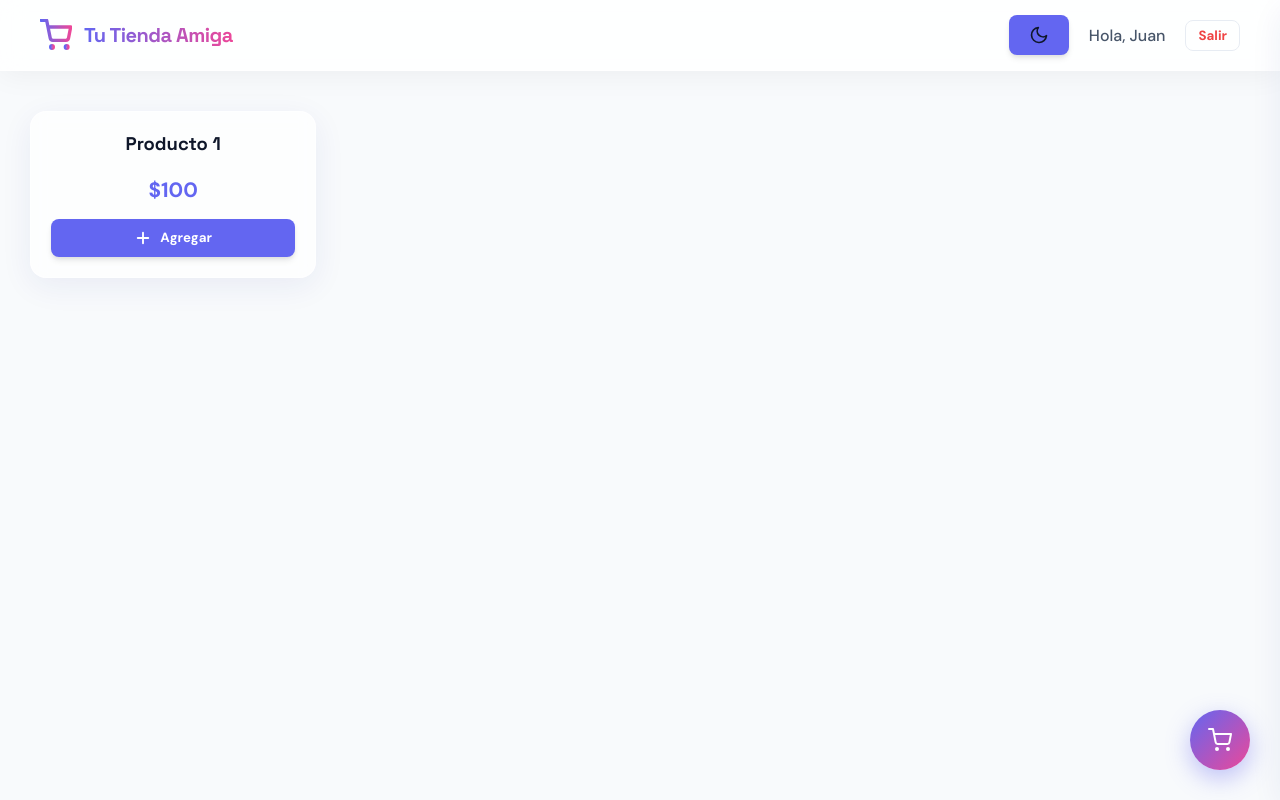
App Component - Gestión del Carrito › Gestión del Carrito › ✓ HAPPY PATH: eliminar producto del carrito
Click the button "Agregar" at (173, 238), box [51, 219, 295, 257]
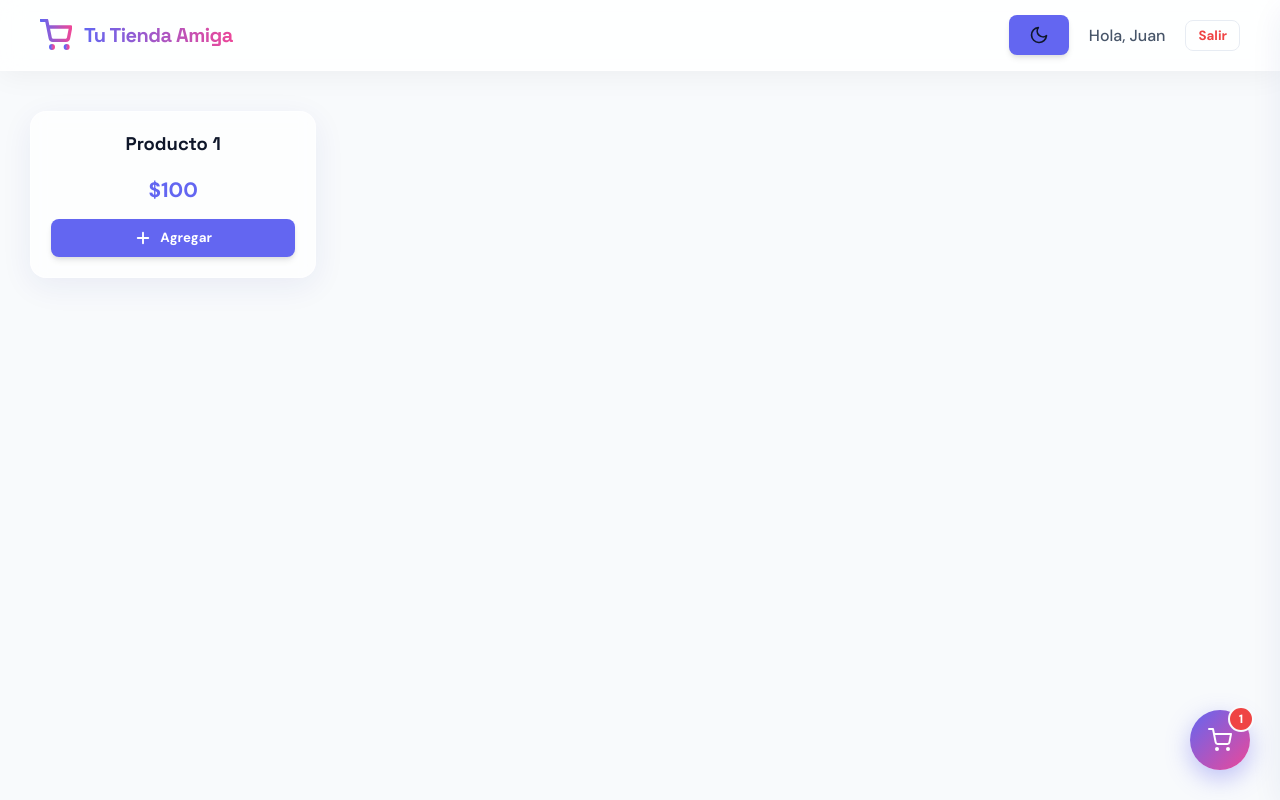
Check: the text with class "cart-badge" reads "1", box [1239, 711, 1243, 727]
# Abrimos el carrito y eliminamos el producto.
Click the button with class "cart-fab" at (1220, 740), box [1190, 710, 1250, 770]
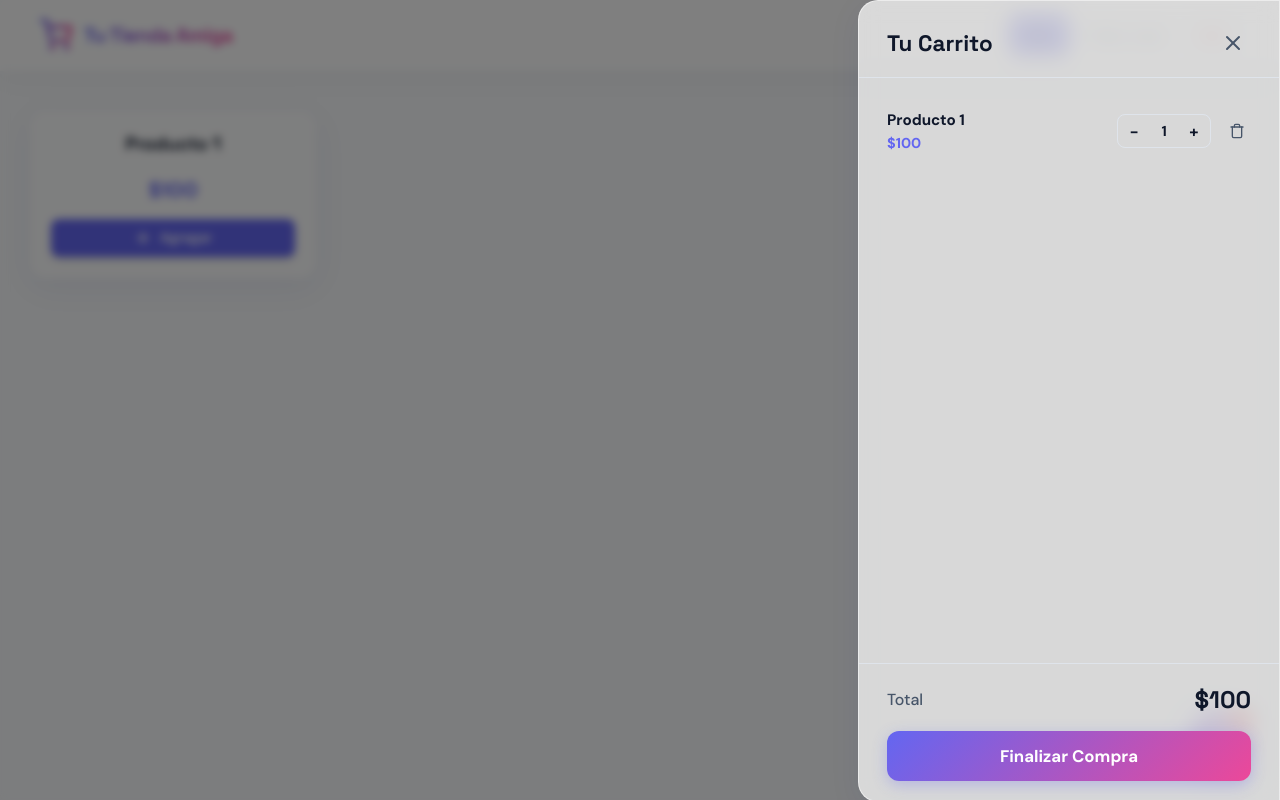
Click the button with class "btn-remove" at (1237, 131), box [1223, 117, 1251, 145]
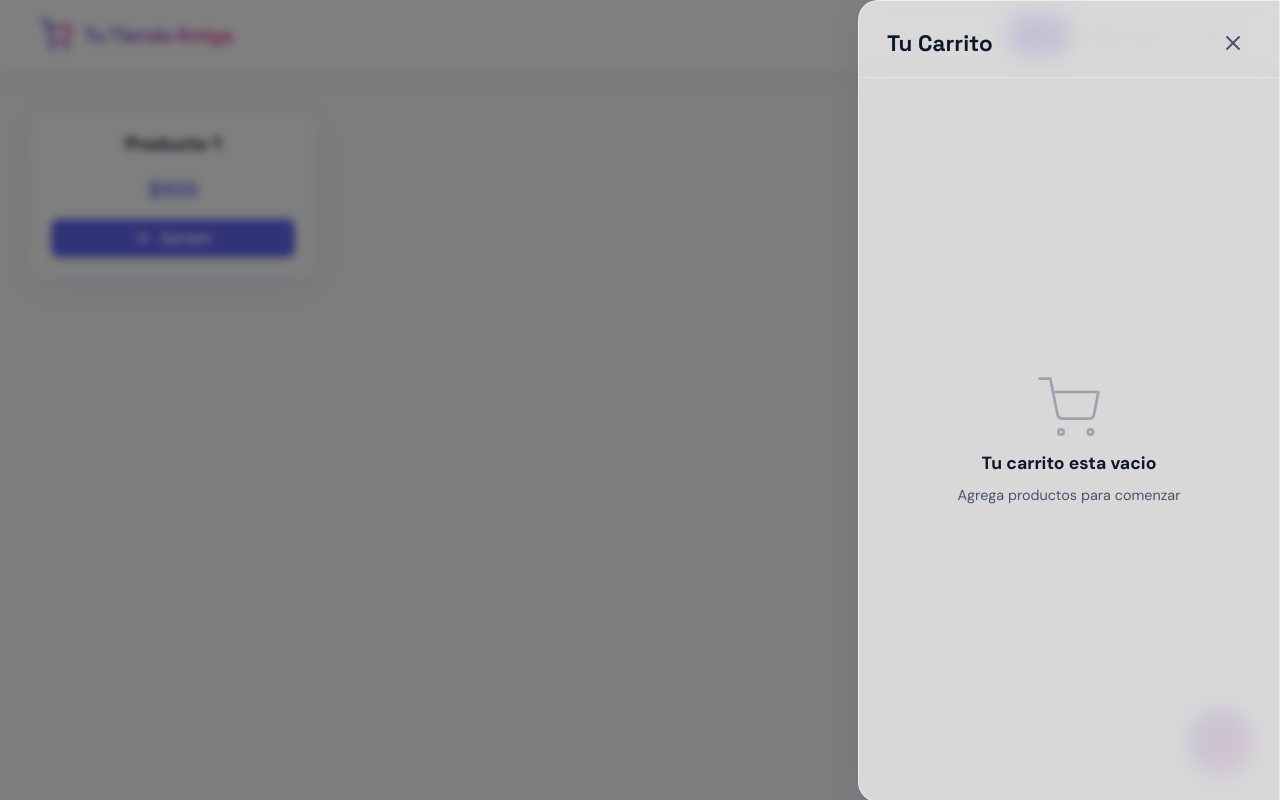
Check: the text with class "cart-badge" is gone
